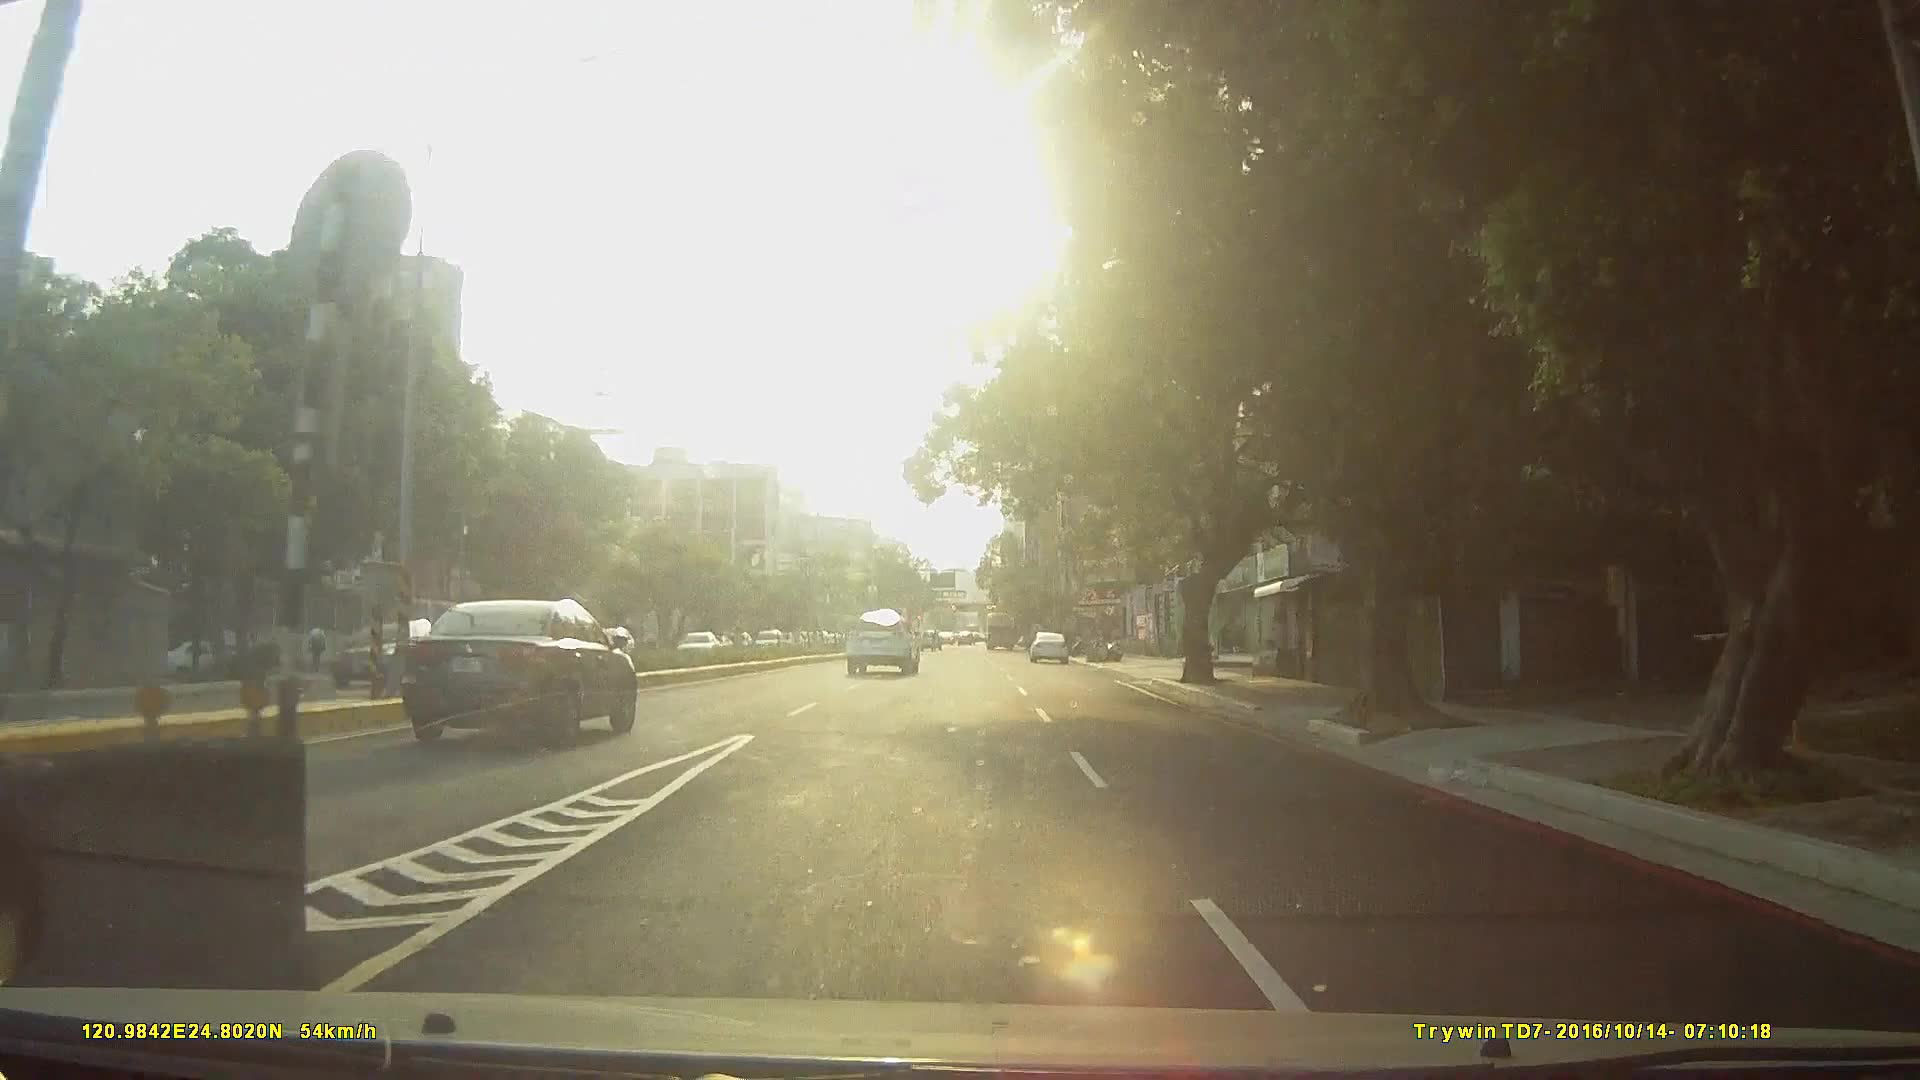pedestrian: (302, 623, 327, 677)
vehicle: (403, 591, 640, 740), (842, 605, 920, 672), (1027, 627, 1070, 664), (982, 607, 1018, 650)
